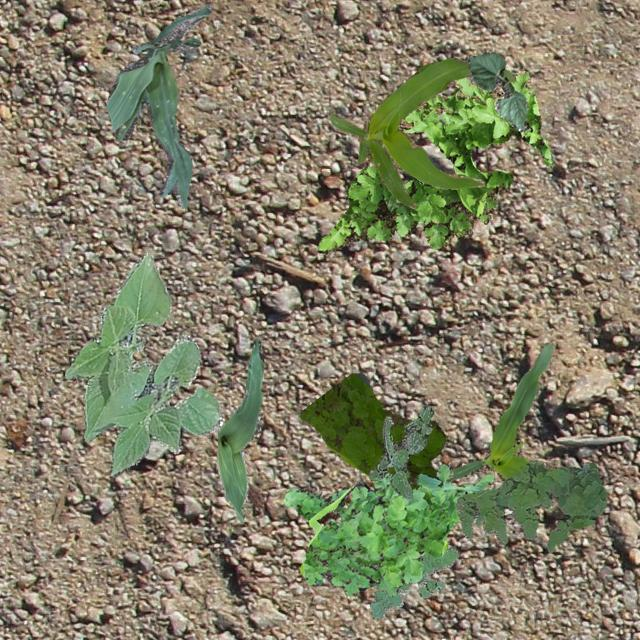crop: (64, 250, 224, 477), (328, 56, 514, 208), (106, 3, 212, 208), (449, 341, 558, 482), (216, 338, 262, 520), (466, 51, 526, 132)
weed: (316, 70, 550, 253), (282, 462, 492, 596), (300, 372, 444, 491), (454, 459, 606, 552), (368, 544, 458, 618), (367, 404, 432, 498)
